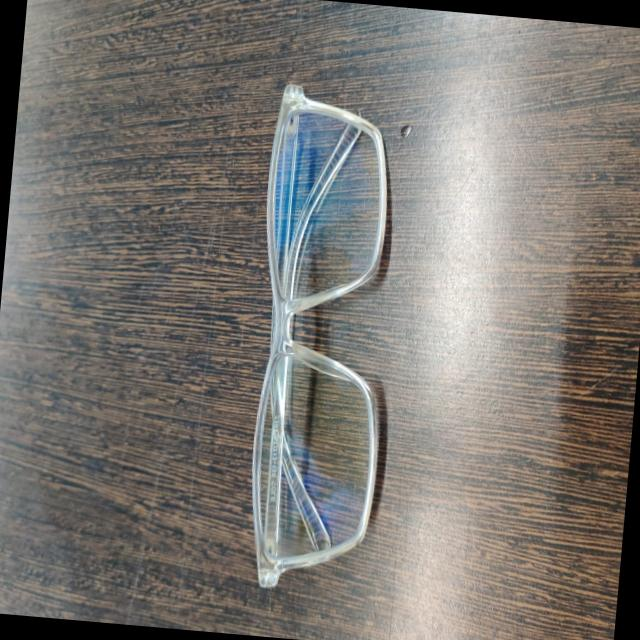Others: (202, 47, 434, 604)
